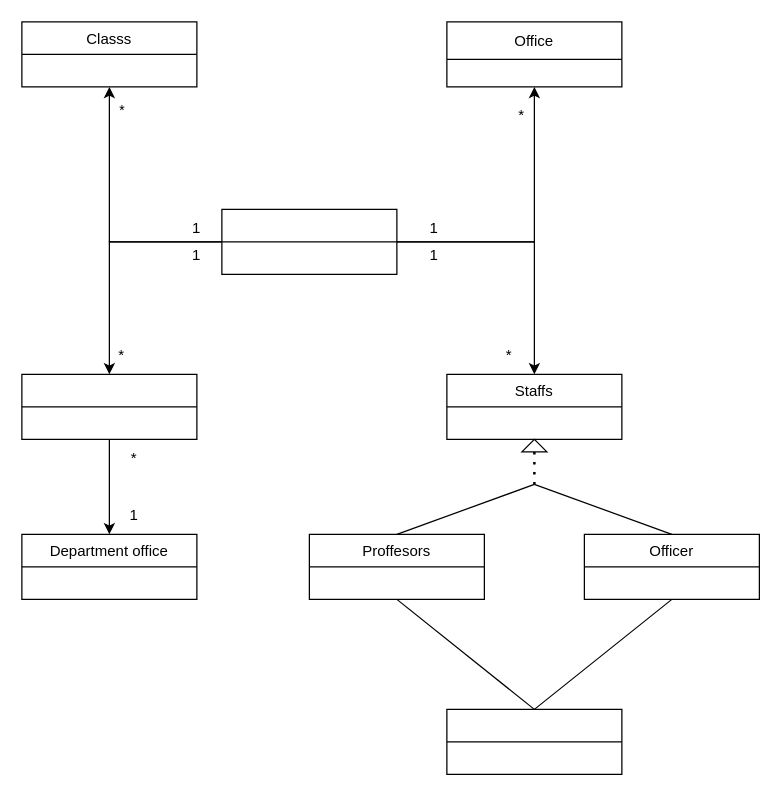
This 781x796 diagram has some shape labels left out. Each missing label, with the centre of its shape:
"Department" goes at (109,406).
"Staff Rooö" goes at (534,741).
"University" goes at (309,241).
